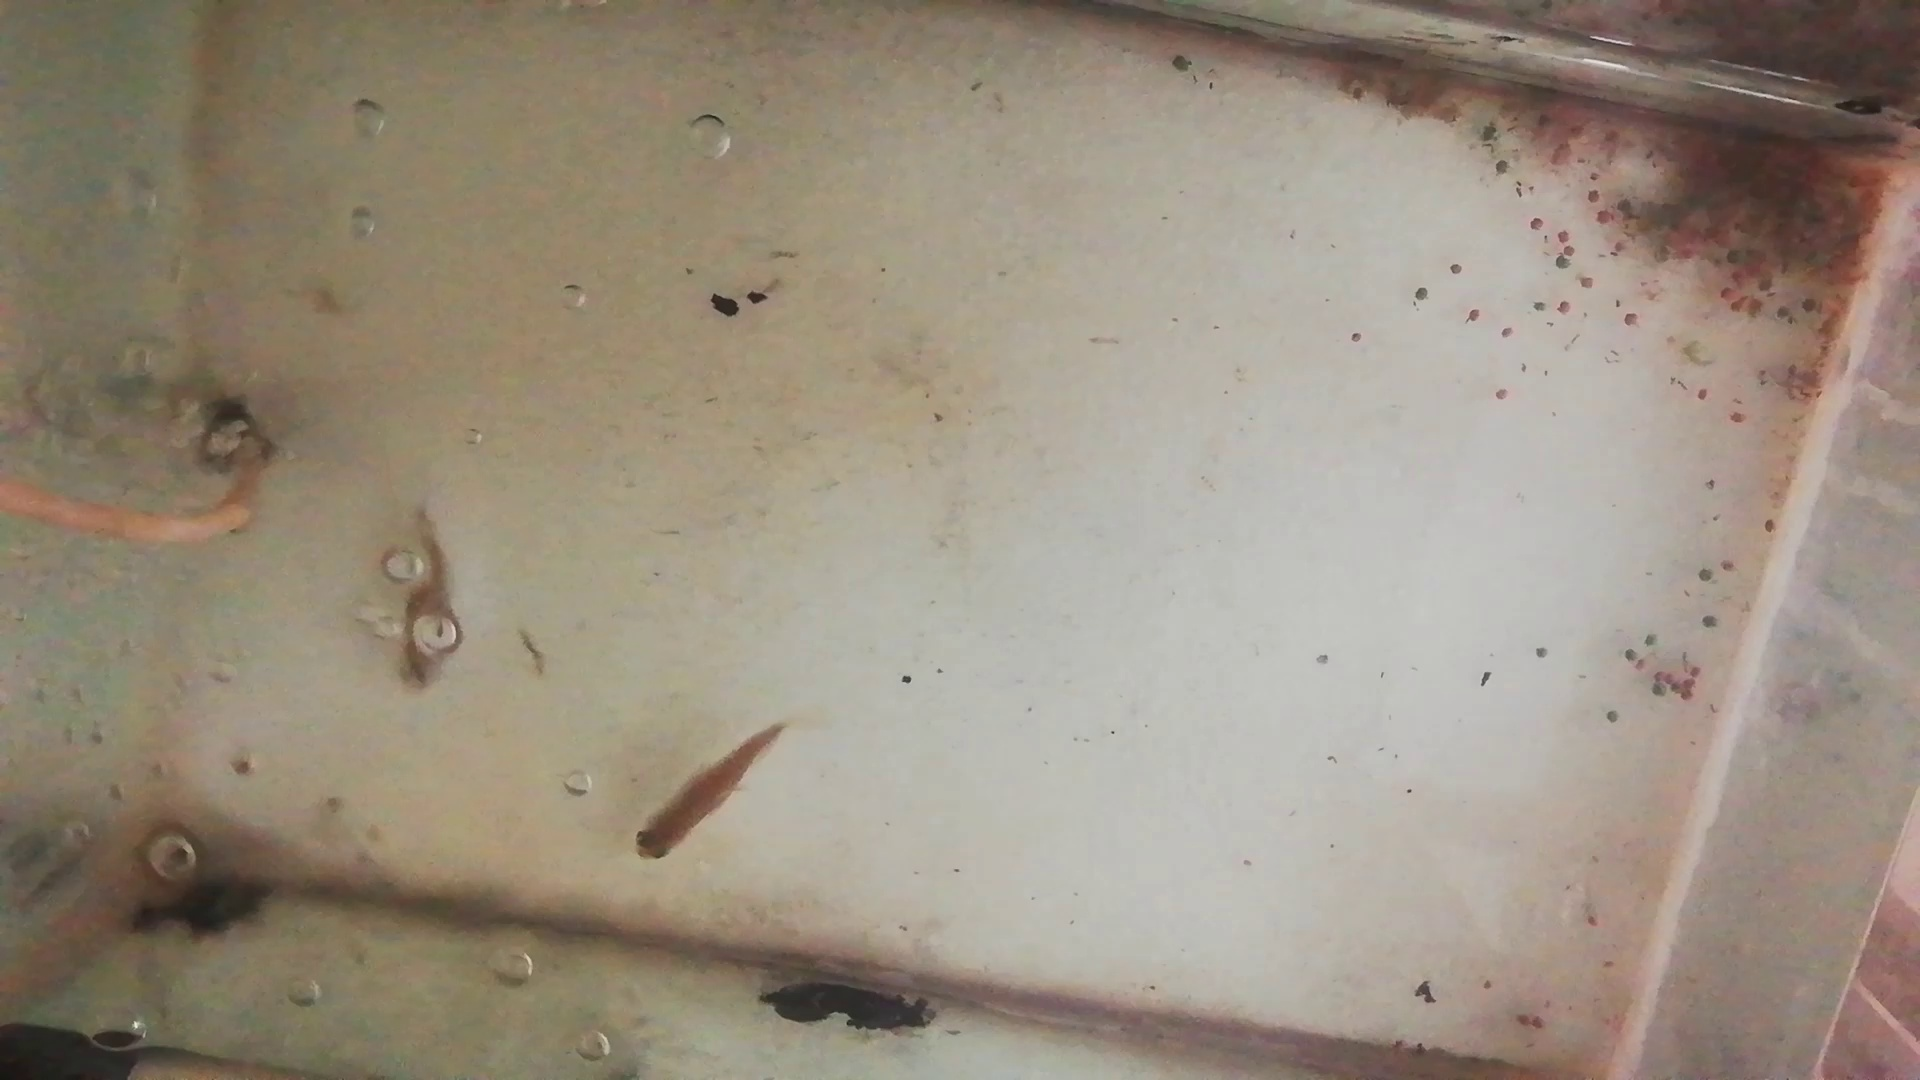fish: (632, 723, 781, 860), (396, 506, 455, 698)
